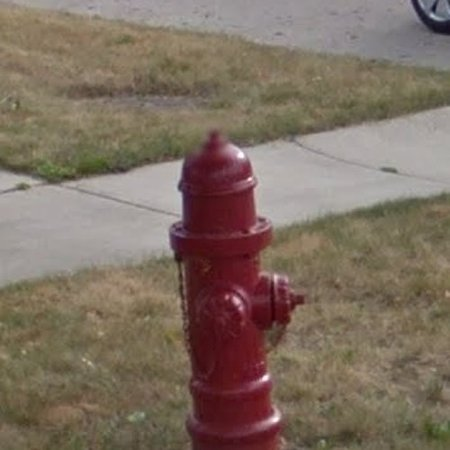腳踏車: (153, 229, 313, 437)
